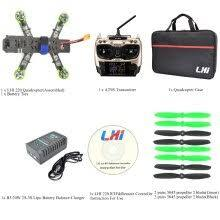drone: (0, 6, 89, 85)
